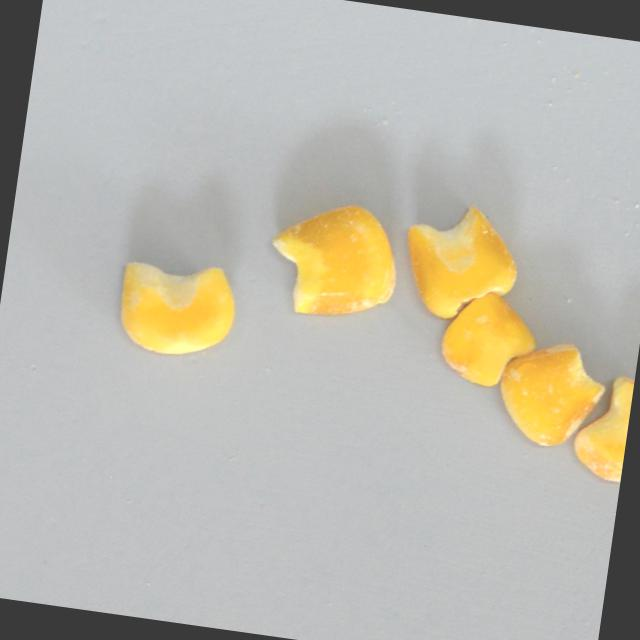no_canjicado: (114, 252, 242, 361)
pelicula: (263, 194, 405, 326), (492, 333, 612, 453), (397, 201, 517, 319), (435, 287, 543, 392), (569, 369, 635, 483)
